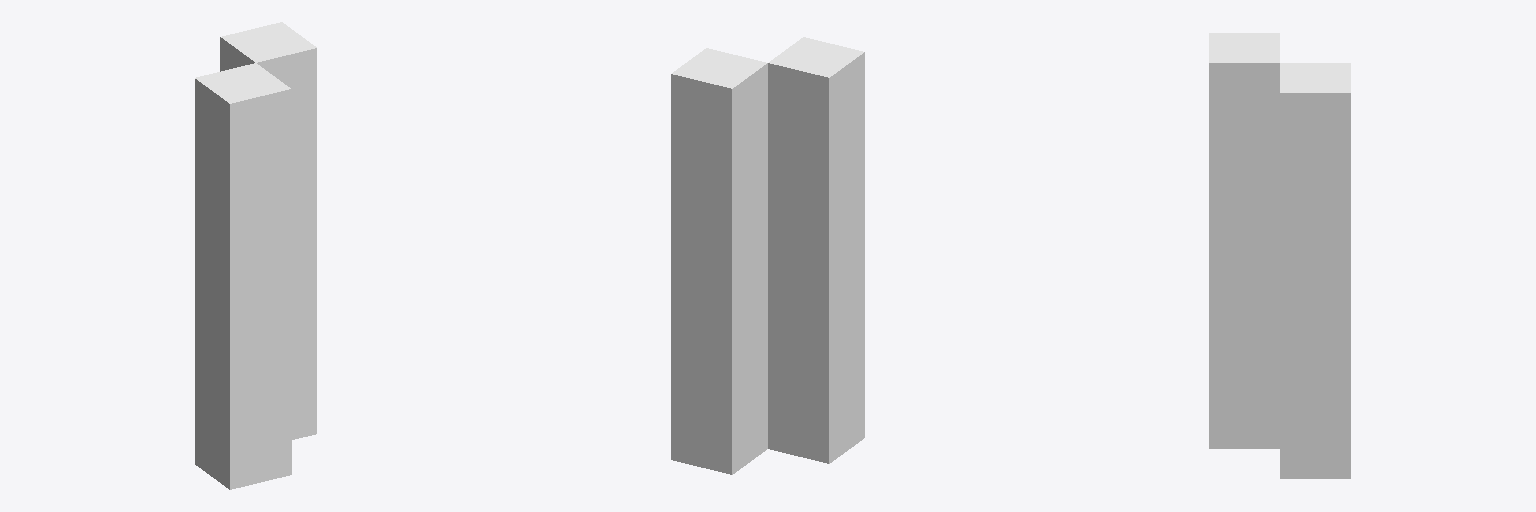
The model's file is transformstation-0.obj.
3 views of the same model, side by side, from view 1: azimuth 30°, elevation 25°; view 2: azimuth 150°, elevation 25°; view 3: azimuth 270°, elevation 25° (orthographic).
Parts seen in each view (by area): view 1: object 1; view 2: object 1; view 3: object 1.
Part boxes in pixels (left/top/right/bottom): object 1: left=195, top=22, right=316, bottom=489; object 1: left=671, top=37, right=864, bottom=474; object 1: left=1209, top=33, right=1350, bottom=478.
Bounding box in the file's own units: 0.2 × 0.6 × 0.2.